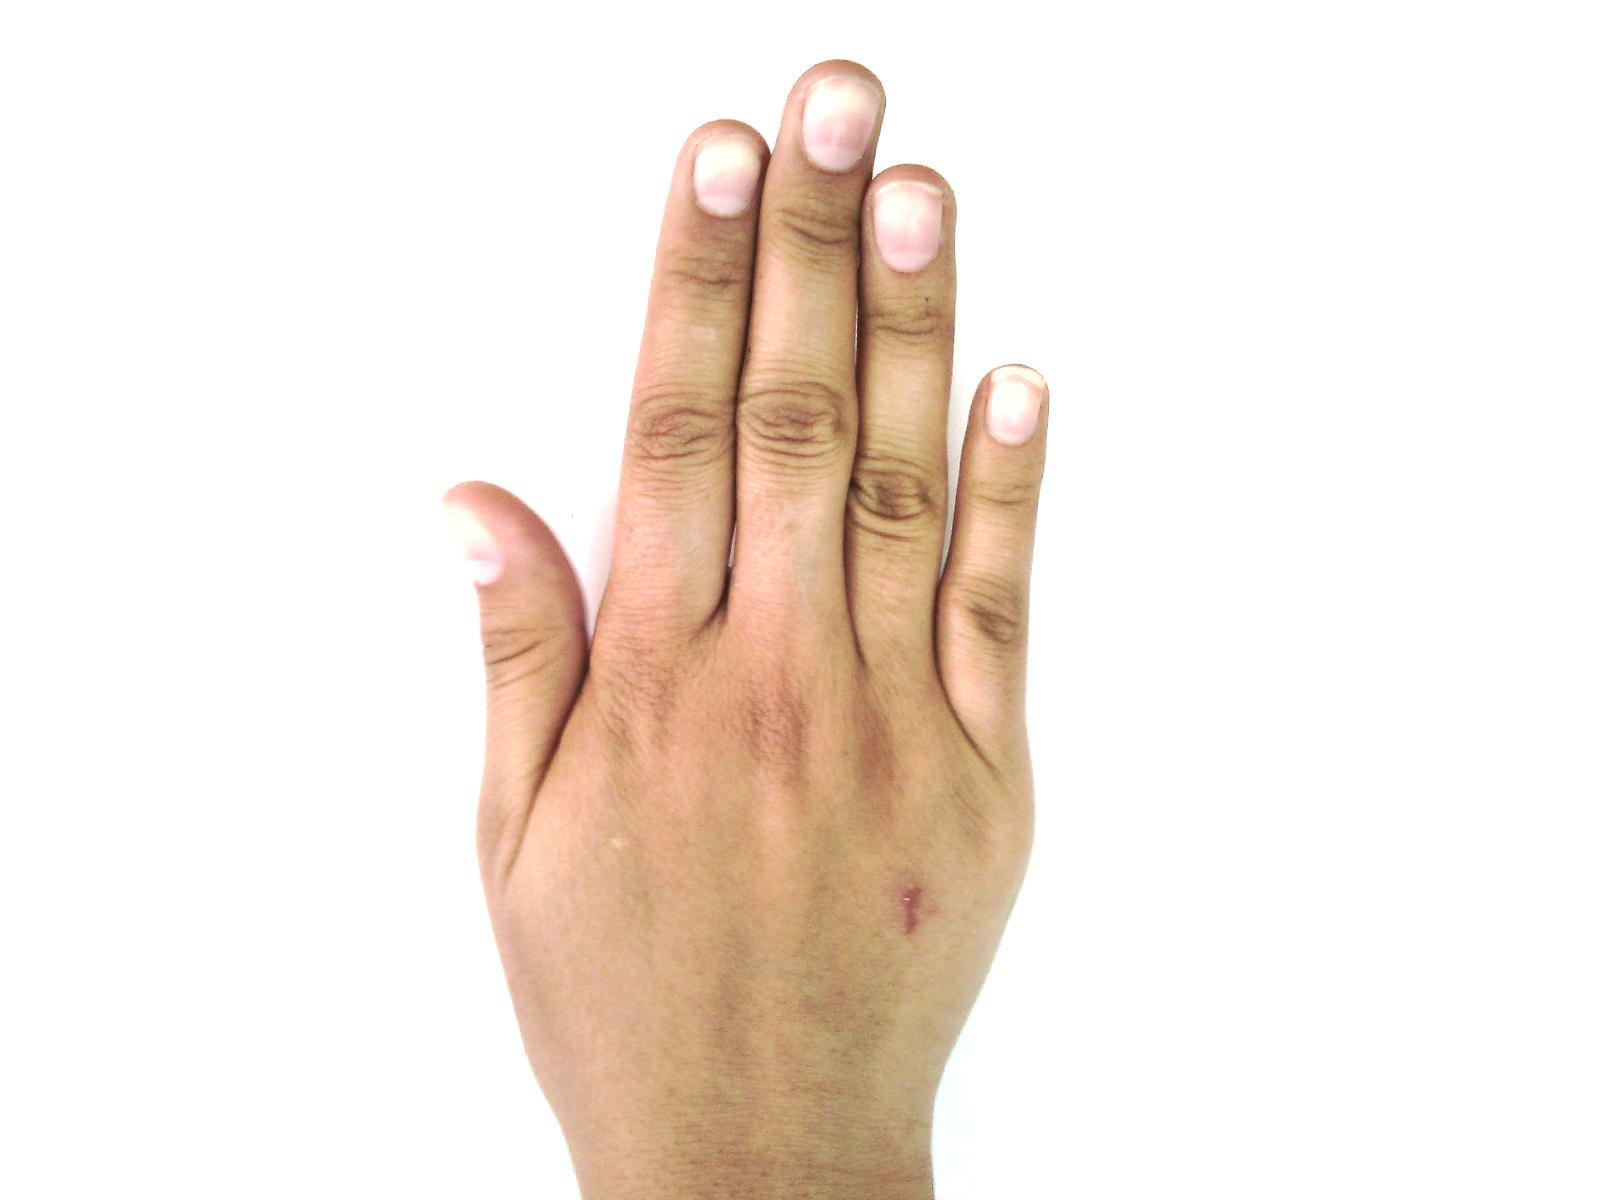hand: (438, 52, 1057, 1129)
